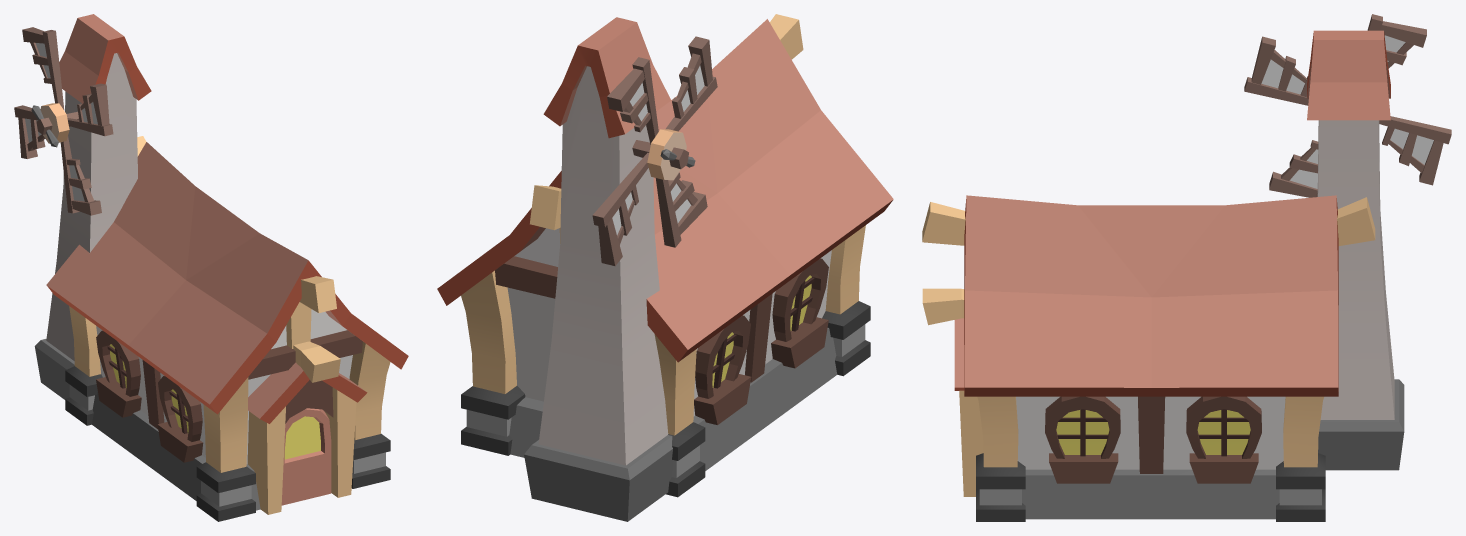
The model's file is building_012.fbx.
The picture shows the model from 3 angles, left to right: view 1: azimuth 30°, elevation 25°; view 2: azimuth 150°, elevation 25°; view 3: azimuth 270°, elevation 25°; orthographic projection. The views are drawn at different scales.
Parts seen in each view (by area): view 1: building.012; view 2: building.012; view 3: building.012.
Part boxes in pixels (box(x1,y1,x2,y2)): building.012: box(14, 14, 408, 521); building.012: box(437, 14, 893, 521); building.012: box(922, 14, 1451, 521).
Size of the model in its own units: 565 by 1001 by 1131.
1 material, 1 textured.
